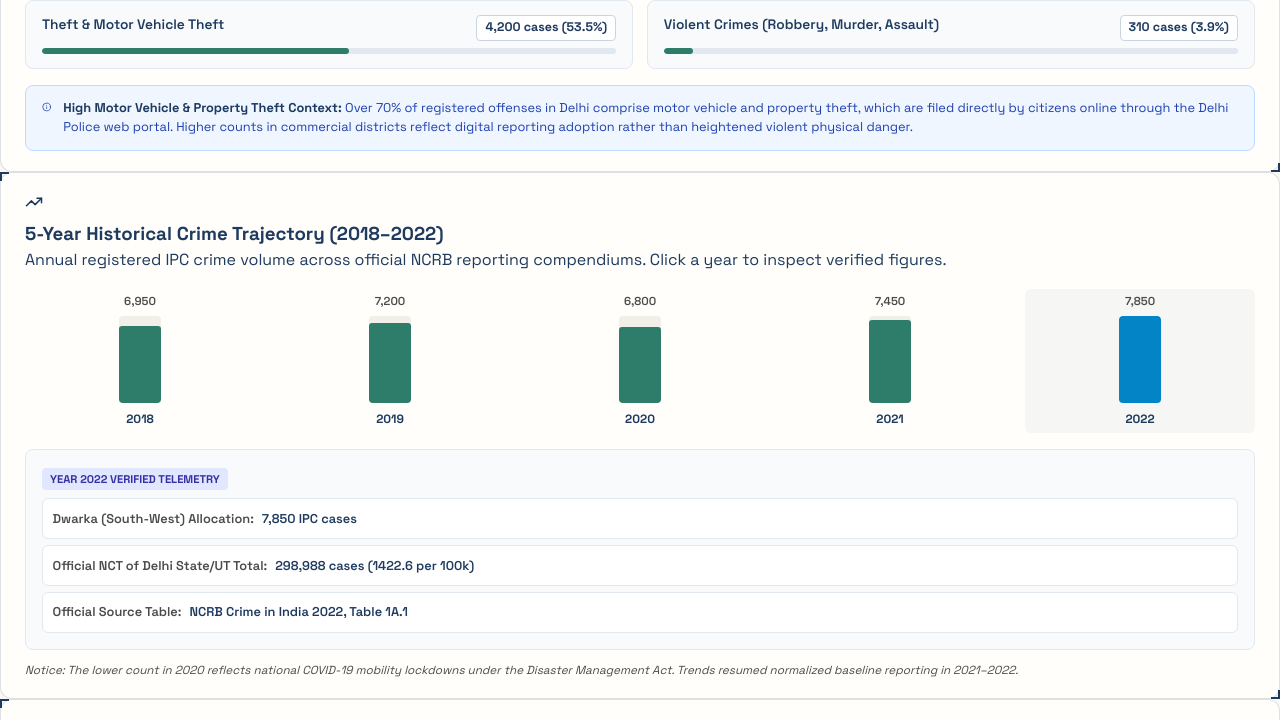
Safety & Crime Intelligence Workspace Component › allows selecting historical years and updates trend focus box
(page scrolled)
Click the element with test id "year-col-2021" at (890, 360), box left=869, top=294, right=911, bottom=427
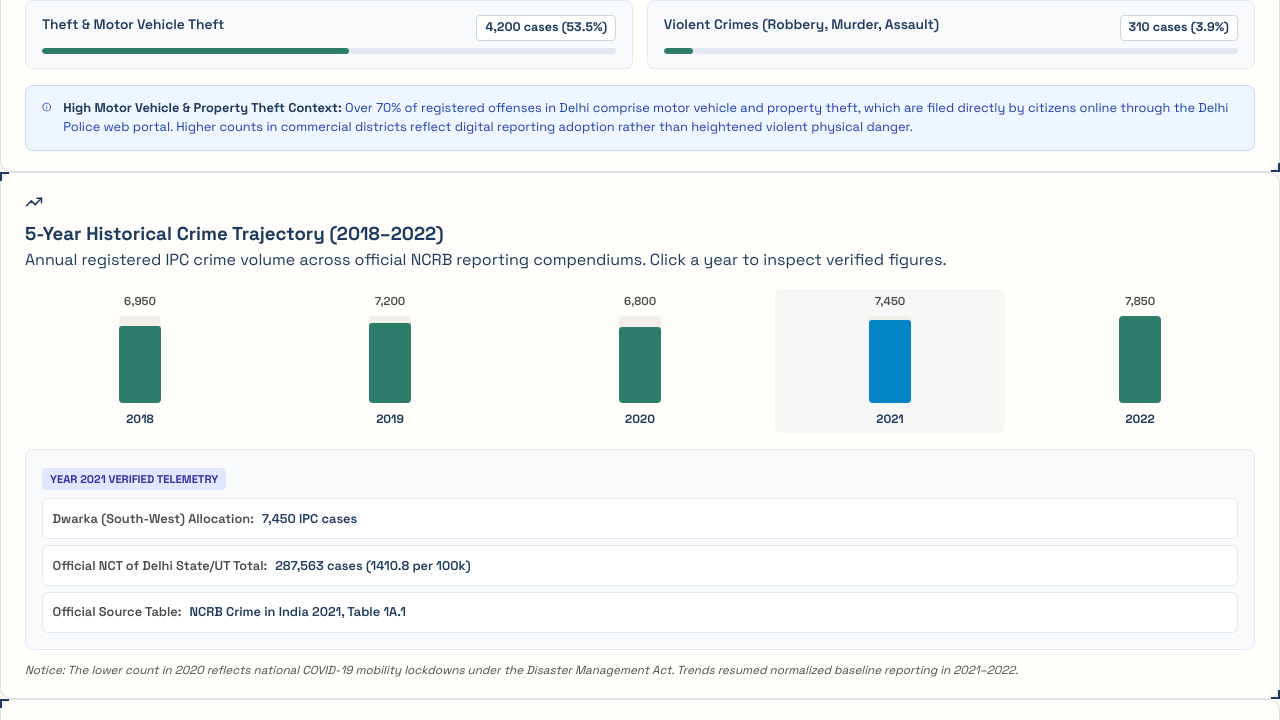
Expected: the element with test id "trend-year-focus" is shown, left=25, top=449, right=1255, bottom=650
Result: the text "7,450 IPC cases" is shown at left=262, top=509, right=357, bottom=529
